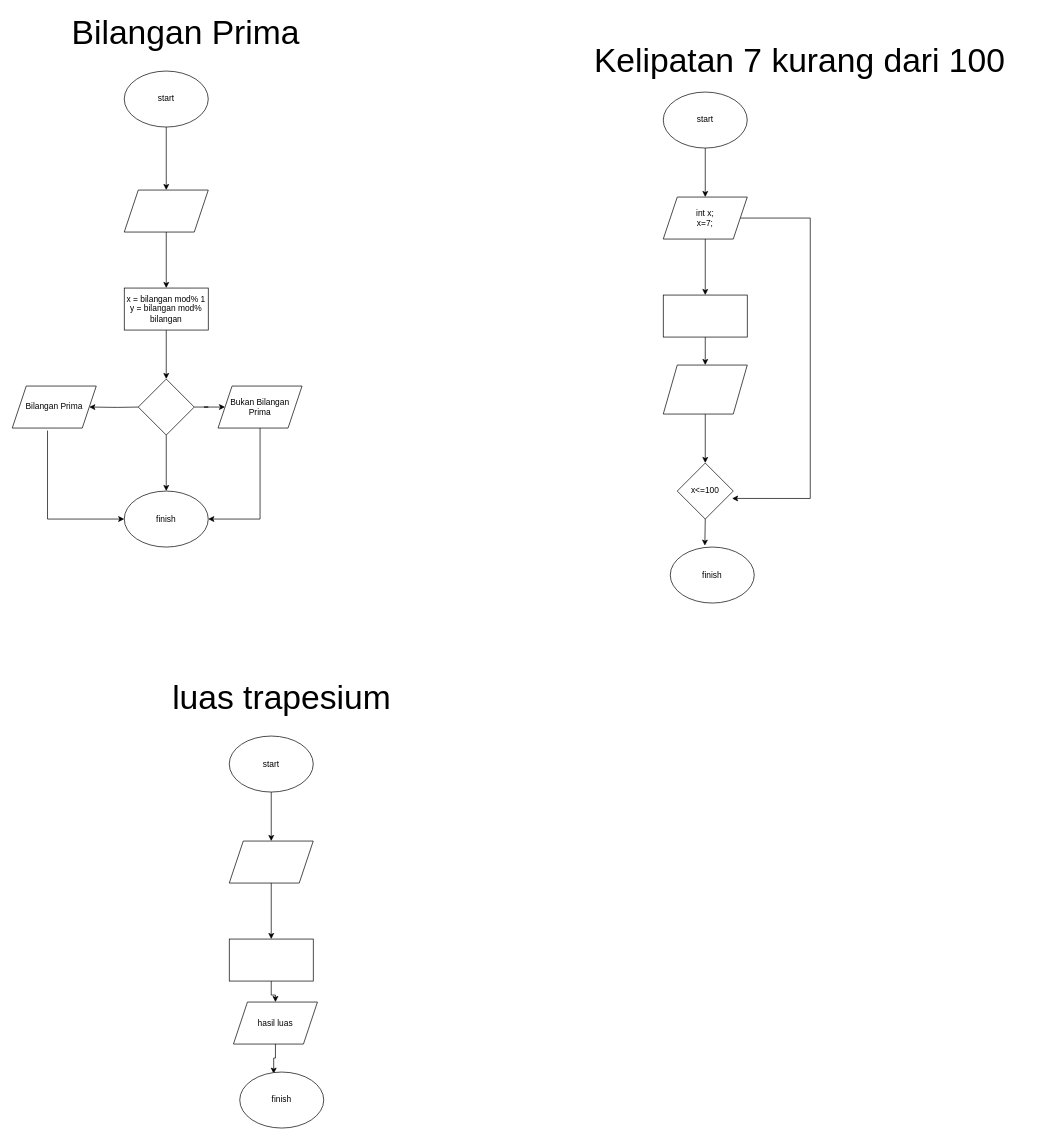
This 1047x1140 diagram has some shape labels left out. The centre of each missing label's shape, as x and y in pixels:
luas = (alas + atas) / 2 * tinggi: pixel 271 959
masukkan bilangan x dan y: pixel 166 210
masukkan nilai alas, atas, tinggi: pixel 271 861
write x: pixel 705 389
x+7: pixel 705 315
x=0 AND y=0: pixel 166 406
